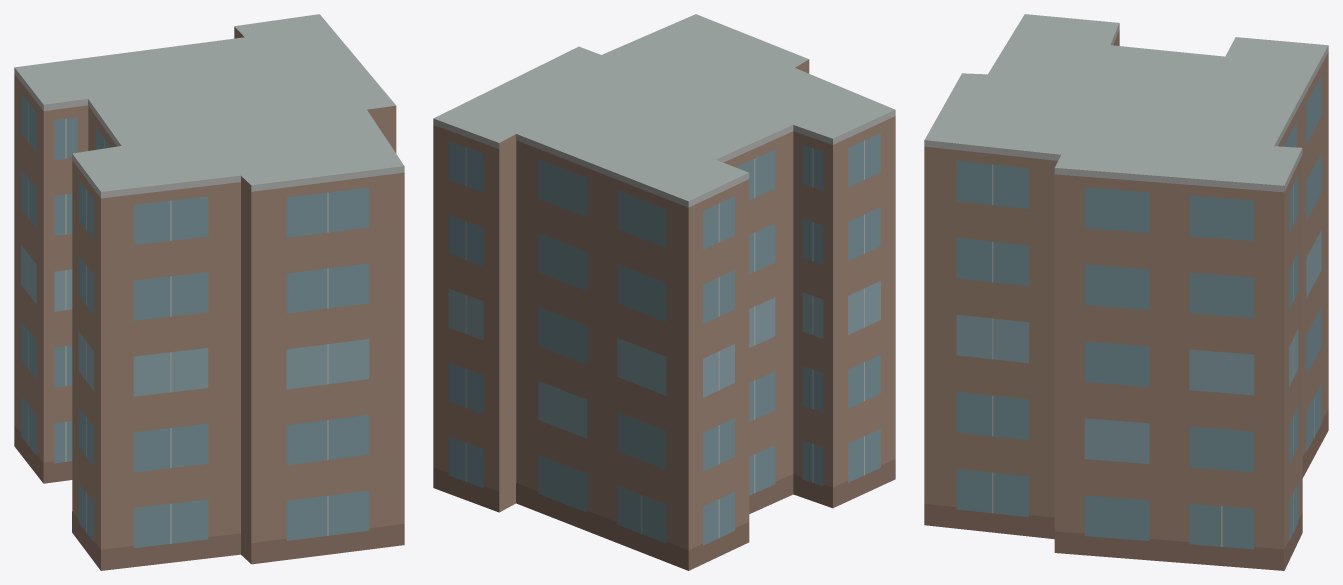
The model's file is survey-upis-32561759.glb.
The picture shows the model from 3 angles, left to right: view 1: azimuth 30°, elevation 25°; view 2: azimuth 150°, elevation 25°; view 3: azimuth 270°, elevation 25°; orthographic projection. The views are drawn at different scales.
Visible parts, largest first — view 1: survey-upis-32561759.tmp; view 2: survey-upis-32561759.tmp; view 3: survey-upis-32561759.tmp.
Part boxes in pixels (left/top/right/bottom): survey-upis-32561759.tmp: left=14, top=14, right=404, bottom=570; survey-upis-32561759.tmp: left=433, top=14, right=895, bottom=570; survey-upis-32561759.tmp: left=924, top=14, right=1328, bottom=570.
Bounding box in the file's own units: 13.84 × 14.45 × 13.76.
